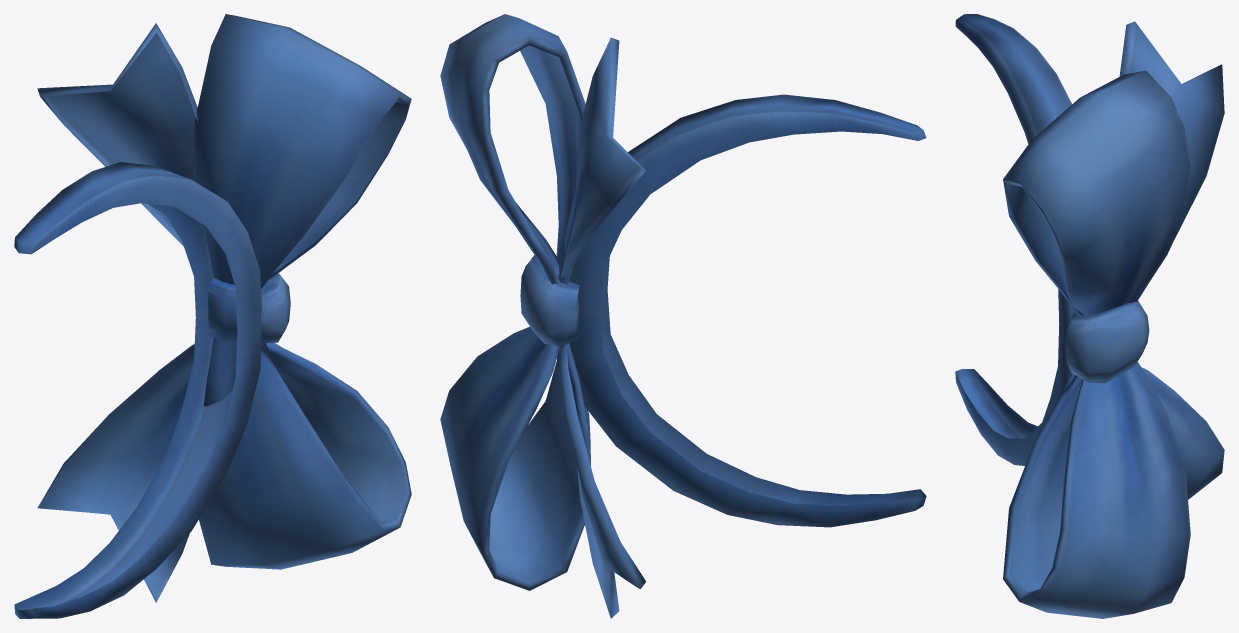
The model's file is F_RibbonHeadband.fbx.
The picture shows the model from 3 angles, left to right: view 1: azimuth 30°, elevation 25°; view 2: azimuth 150°, elevation 25°; view 3: azimuth 270°, elevation 25°; orthographic projection. The views are drawn at different scales.
Parts seen in each view (by area): view 1: 24_hdb rib_0.5_0_0; view 2: 24_hdb rib_0.5_0_0; view 3: 24_hdb rib_0.5_0_0.
Part boxes in pixels (left/top/right/bottom): 24_hdb rib_0.5_0_0: left=14, top=14, right=411, bottom=618; 24_hdb rib_0.5_0_0: left=440, top=14, right=926, bottom=618; 24_hdb rib_0.5_0_0: left=955, top=14, right=1224, bottom=618.
Bounding box in the file's own units: 0.1213 × 0.1542 × 0.0666.
